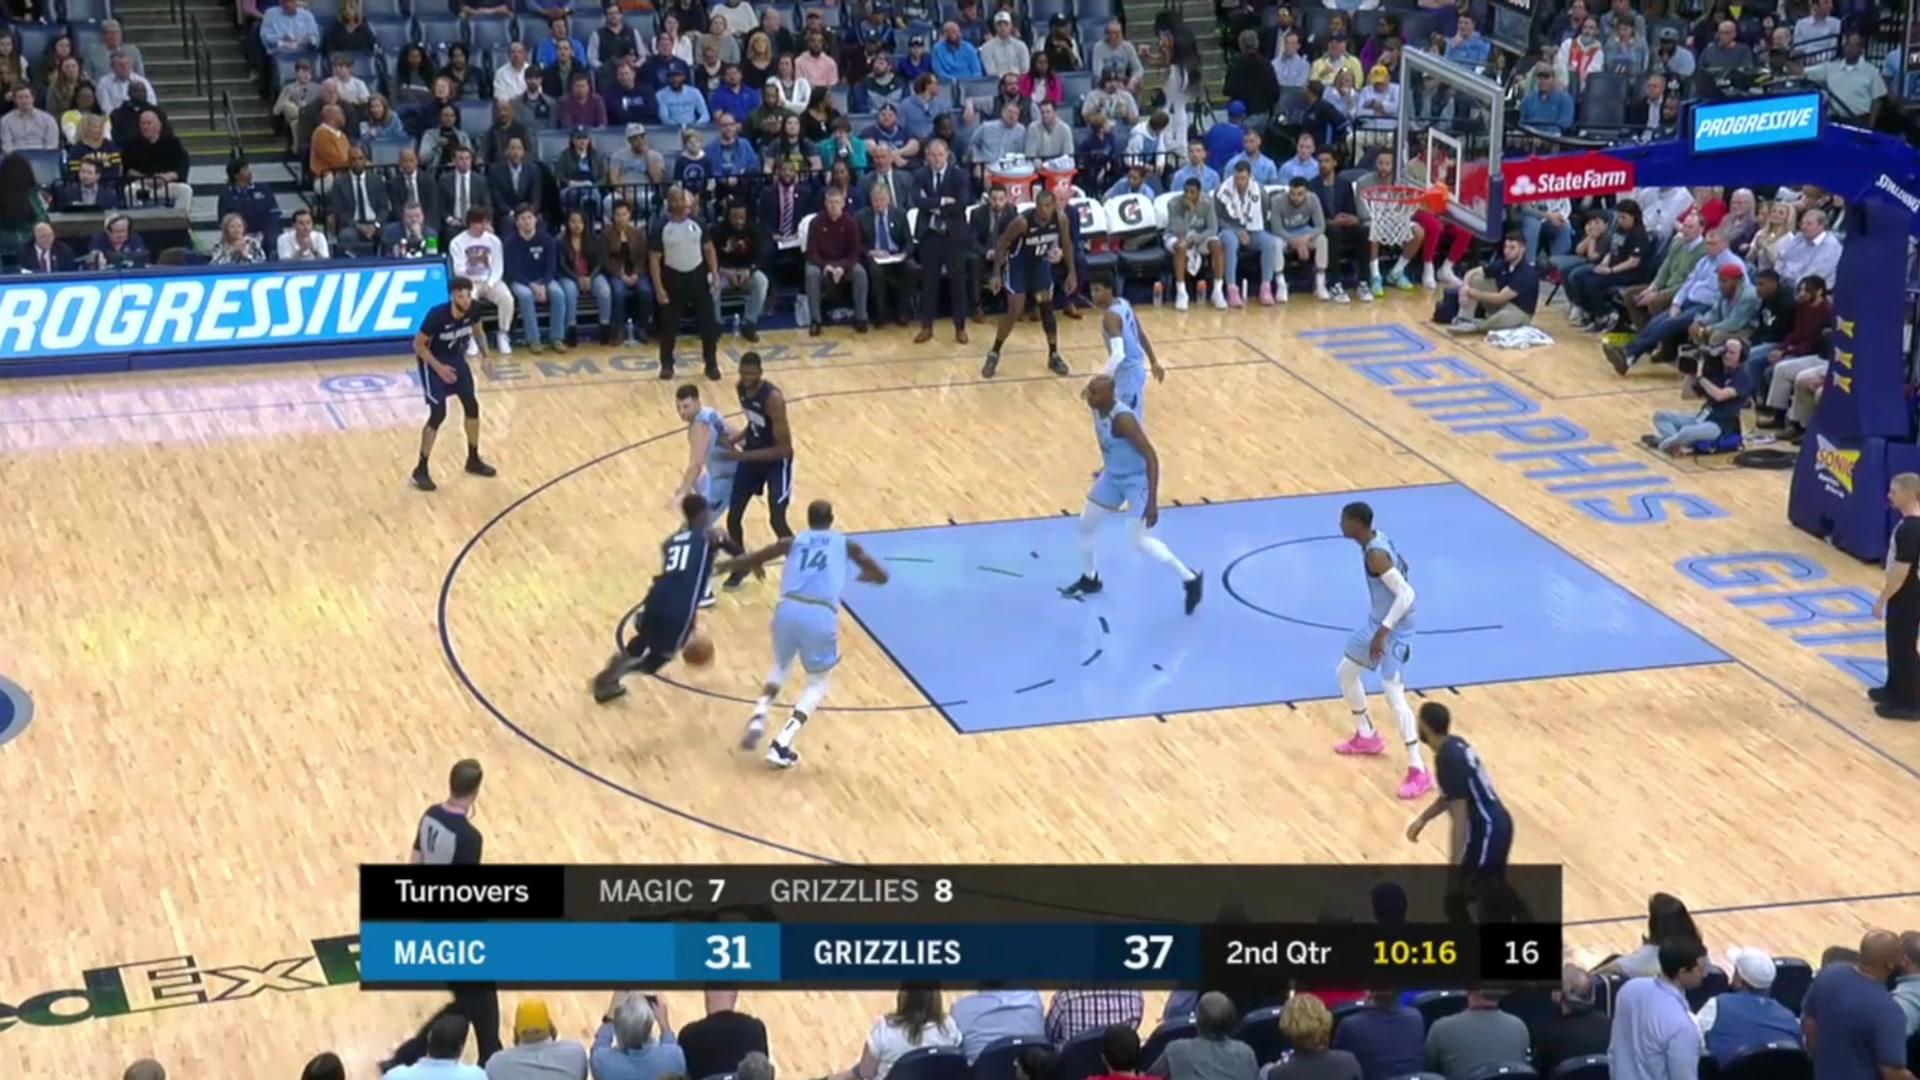no_foul: (654, 356, 794, 502)
